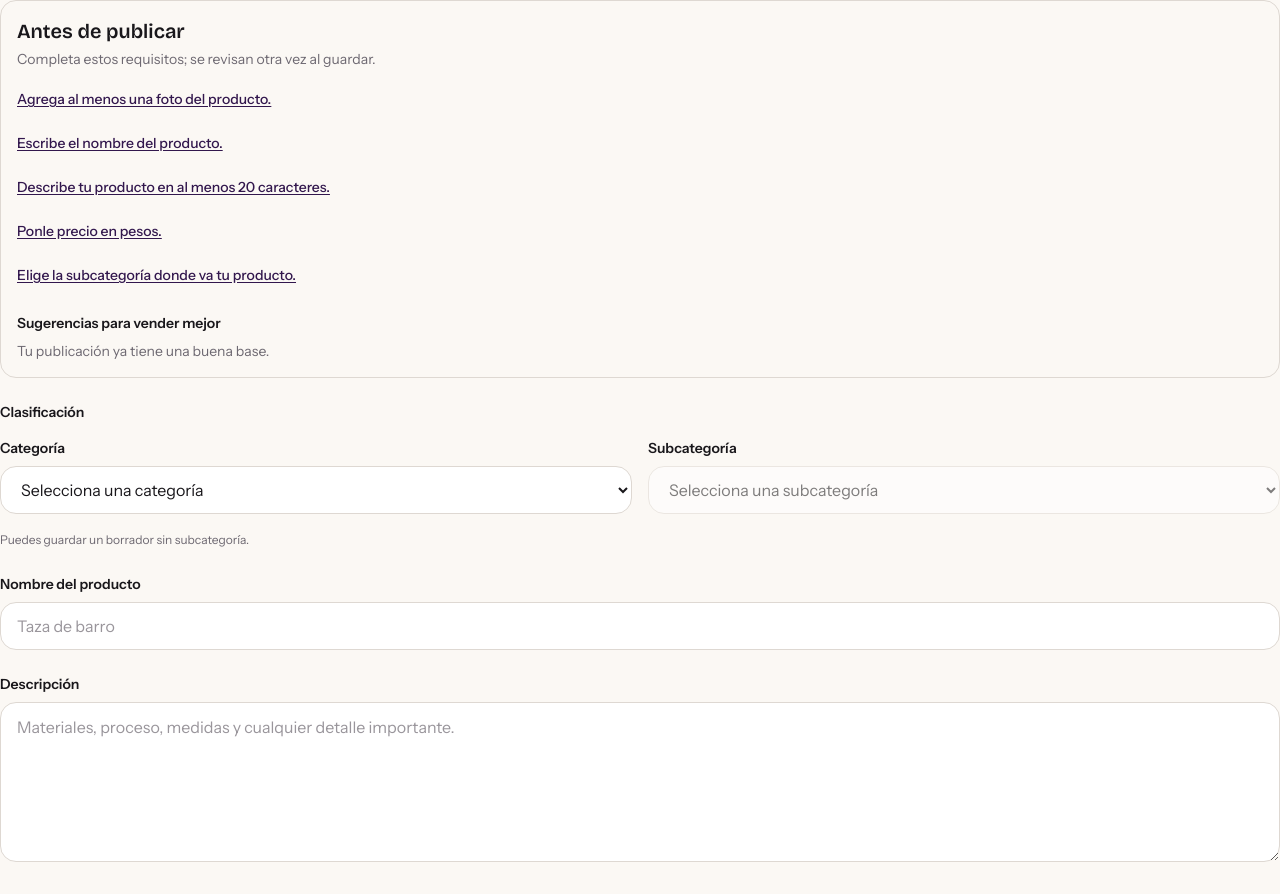
Test: ProductForm › updates the checklist as the seller fills in a practical requirement
The width and height of the screenshot is (1280, 894).
Expected: the link "Escribe el nombre del producto." is shown, left=17, top=134, right=223, bottom=152
Step 1. Type "Taza volcánica" into the field labelled "Nombre del producto" → (640, 626), box left=0, top=602, right=1279, bottom=650
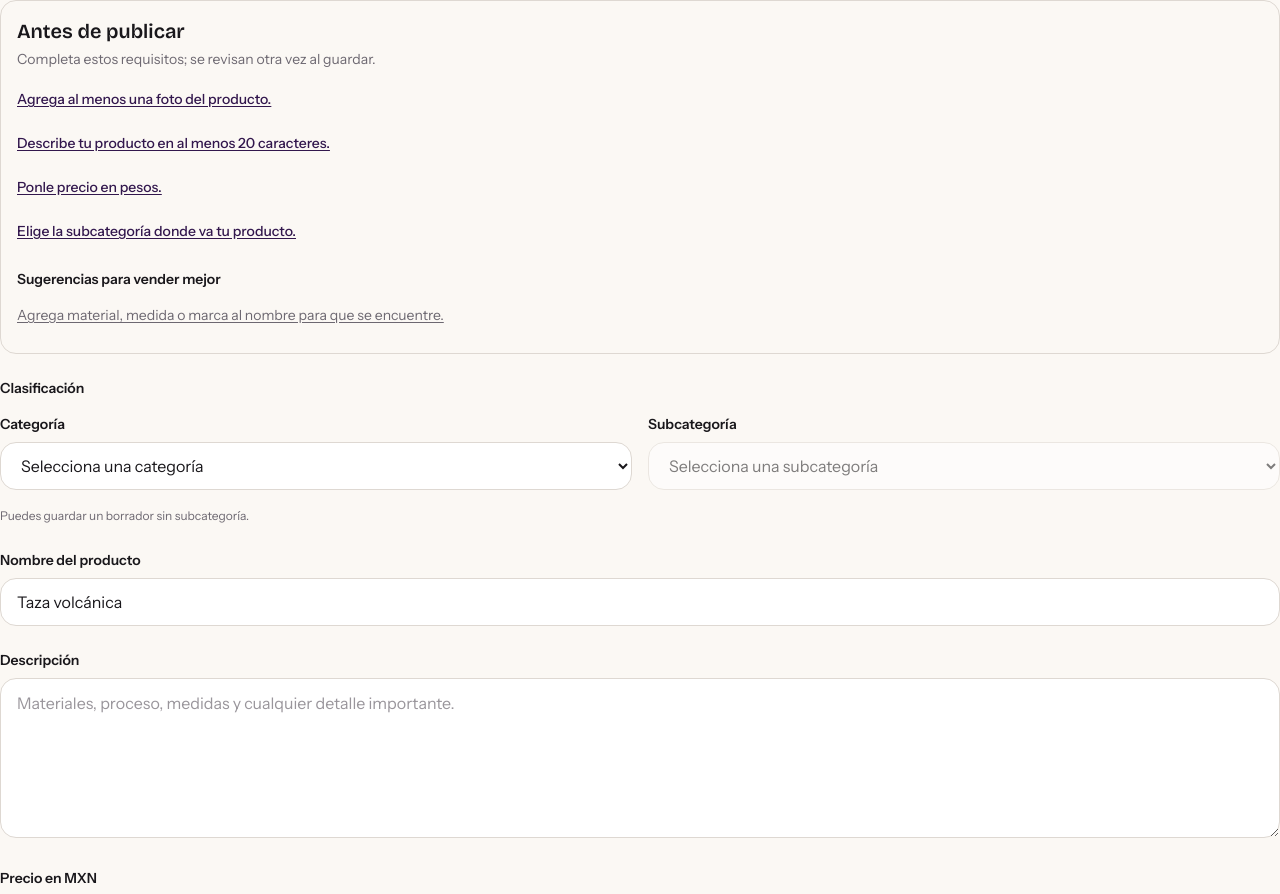
Expected: the link "Escribe el nombre del producto." is gone
